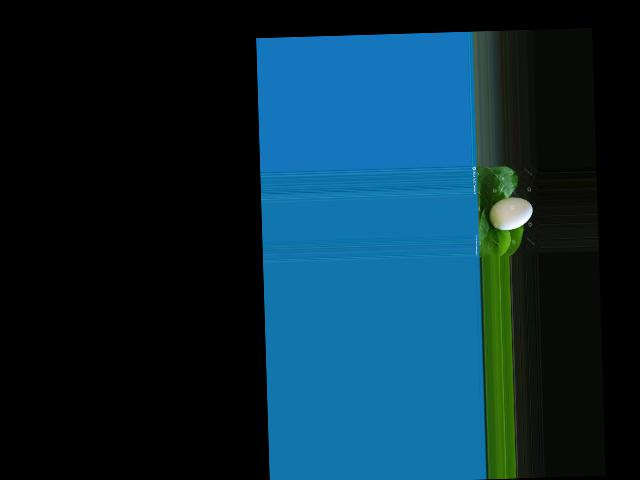egg: (488, 196, 532, 231)
